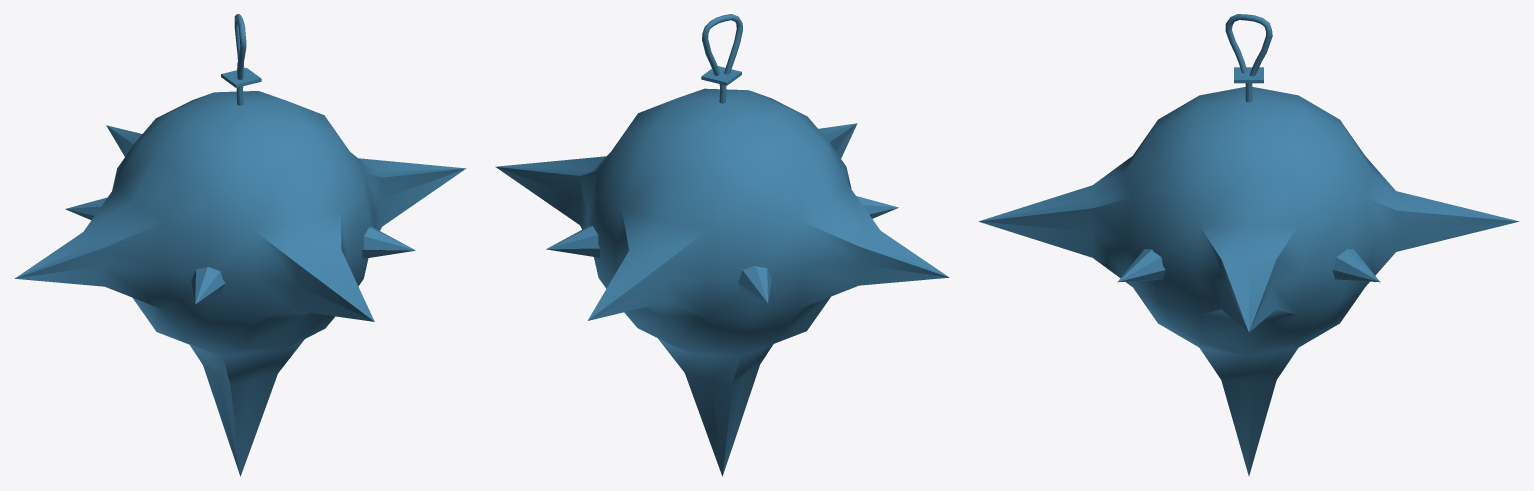
Rendered from Mesh_Bola.fbx.
3 views of the same model, side by side, from view 1: azimuth 30°, elevation 25°; view 2: azimuth 150°, elevation 25°; view 3: azimuth 270°, elevation 25° (orthographic).
Visible parts, largest first — view 1: Mesh_Bola; view 2: Mesh_Bola; view 3: Mesh_Bola.
Part boxes in pixels (x1,y1,x2,y2): Mesh_Bola: [14, 14, 466, 476]; Mesh_Bola: [495, 14, 949, 476]; Mesh_Bola: [978, 14, 1519, 475].
Size of the model in its own units: 201 by 194 by 206.
